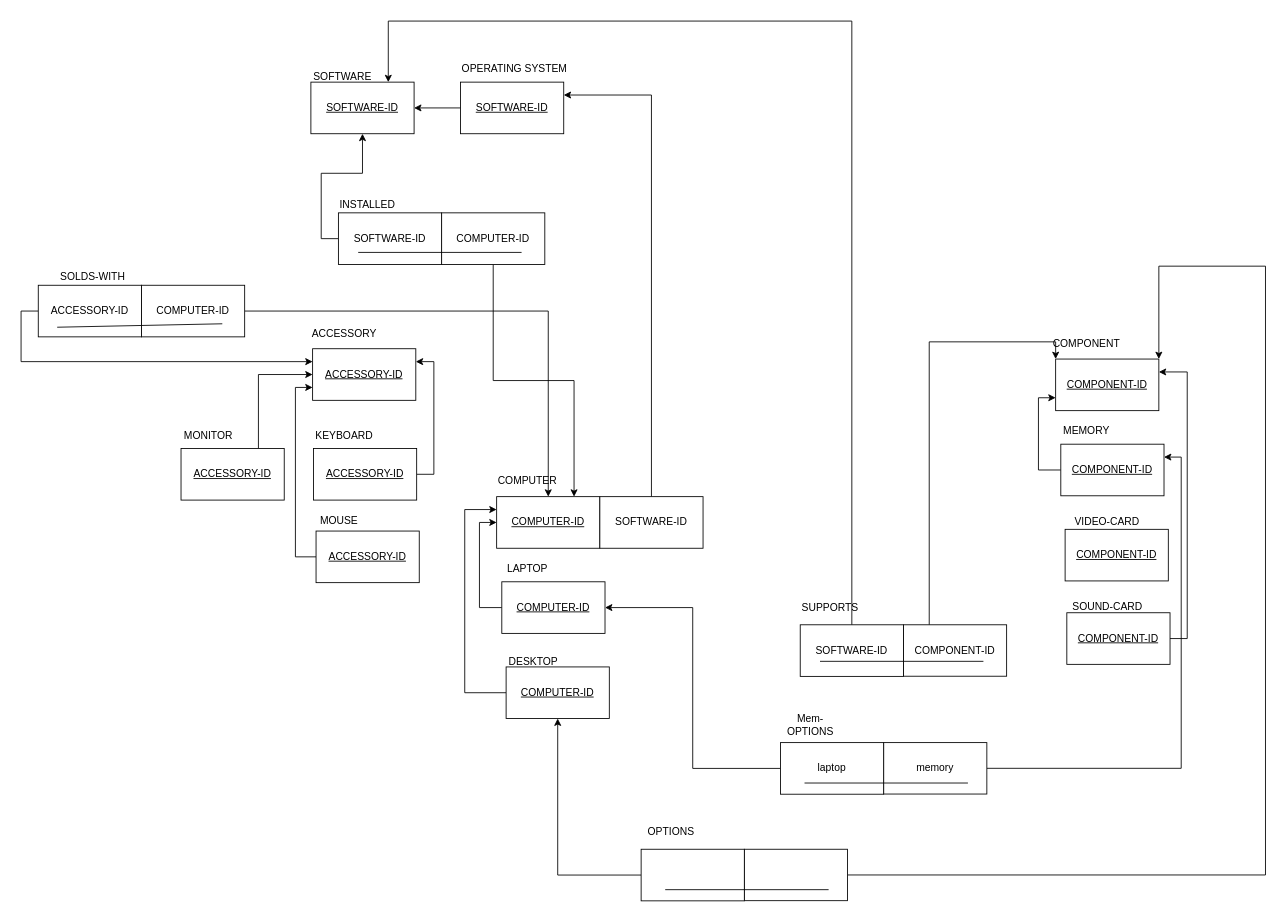
Some shapes in this 1287 by 916 pixel diagram are drawn without their labels. Each missing label, with the box of its shape:
COMPOENENT-ID: (743, 848, 848, 901)
DESKTOP-ID: (640, 848, 744, 901)
